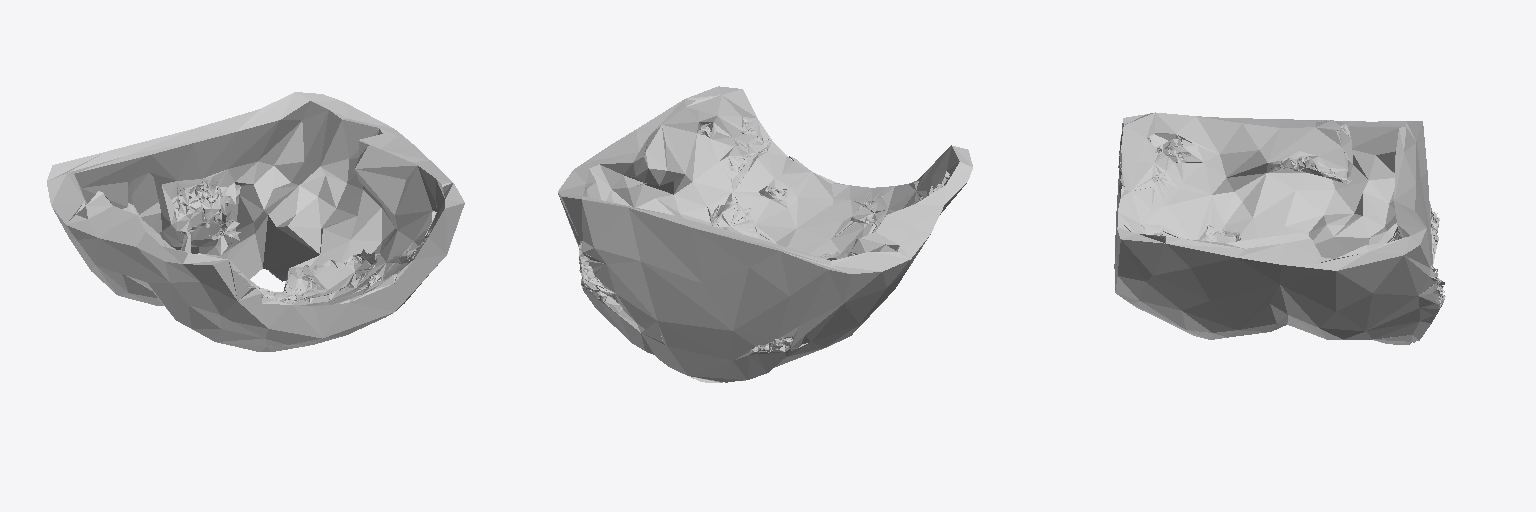
Rendered from body_Face.OBJ.
The picture shows the model from 3 angles: view 1: azimuth 30°, elevation 25°; view 2: azimuth 150°, elevation 25°; view 3: azimuth 270°, elevation 25°; orthographic projection.
Visible parts, largest first — view 1: body_Face; view 2: body_Face; view 3: body_Face.
Part boxes in pixels (x1,y1,x2,y2): body_Face: (47, 92, 464, 351); body_Face: (558, 86, 972, 382); body_Face: (1114, 112, 1445, 344).
Size of the model in its own units: 164 by 77.82 by 141.